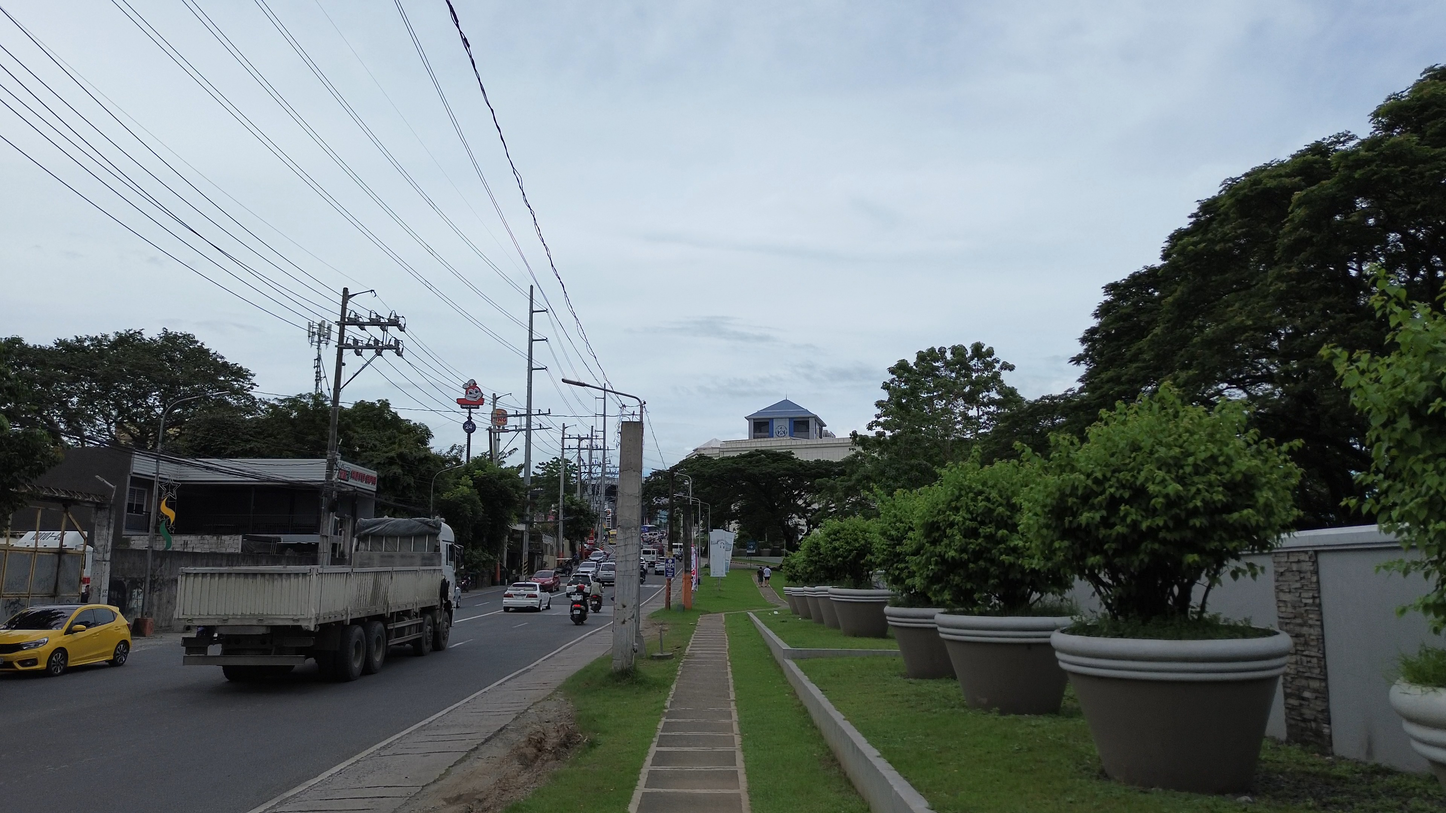car: (0, 605, 131, 676), (502, 582, 550, 611), (532, 570, 561, 592), (577, 561, 599, 574), (653, 559, 665, 575)
motorcycle: (569, 595, 588, 624), (590, 594, 602, 613)
truck: (176, 518, 459, 681)
vehicle: (569, 594, 588, 625), (597, 560, 616, 585), (640, 545, 659, 566), (576, 560, 599, 575), (589, 593, 602, 613), (589, 550, 607, 562), (653, 559, 665, 575)
